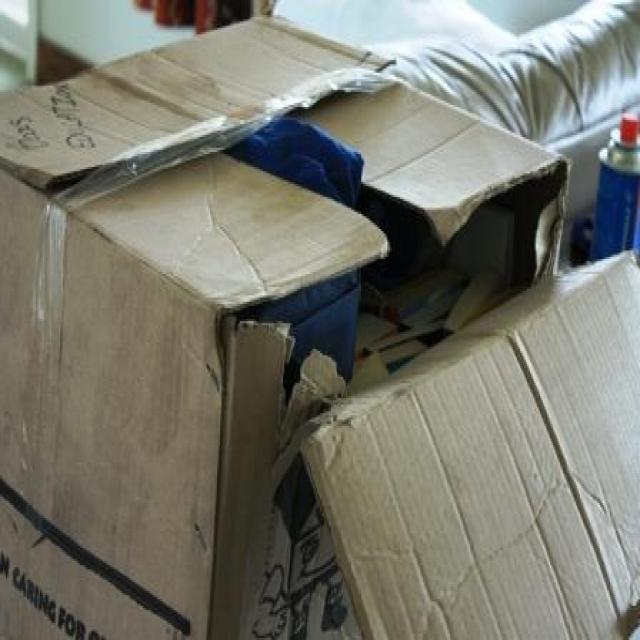hole: (183, 163, 574, 360)
